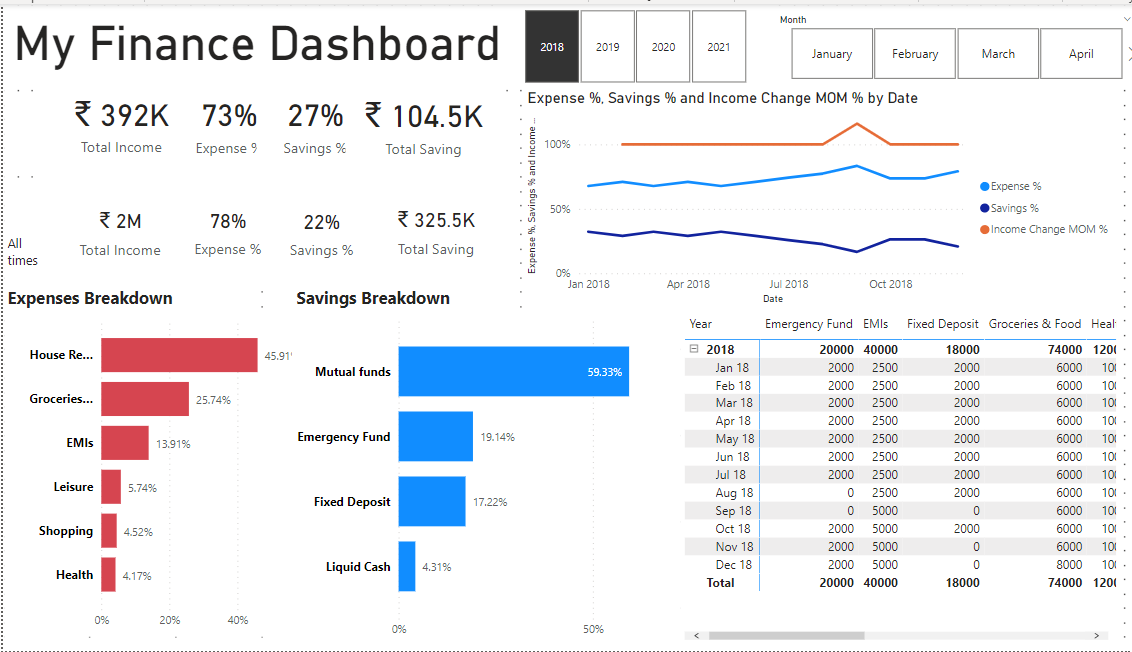

What the dashboard file says about the page in this screenshot:
{"tool":"powerbi","page":{"name":"Finance Dashboard","canvas":[1280,720],"ordinal":0},"visuals":[{"type":"card","fields":{"Values":["Key Measures.Total Income"]},"box":[47.7,67.2,168.7,129.6],"z":0},{"type":"card","fields":{"Values":["Key Measures.Expense %"]},"box":[187,67.2,130.8,130.8],"z":1000},{"type":"card","fields":{"Values":["Key Measures.Savings %"]},"box":[282.4,67.2,130.8,130.8],"z":2000},{"type":"card","fields":{"Values":["Key Measures.Total Saving"]},"box":[381.4,68.5,173.6,129.6],"z":3000},{"type":"slicer","fields":{"Values":["FinData.Year"]},"box":[555,0,295.8,94.1],"z":4000},{"type":"slicer","fields":{"Values":["FinData.Date.Variation.Date Hierarchy.Month"]},"box":[850.8,6.1,418.1,84.3],"z":5000},{"type":"card","fields":{"Values":["Key Measures.Total Income"]},"box":[46.2,188.3,168.7,129.6],"z":6000},{"type":"card","fields":{"Values":["Key Measures.Expense %"]},"box":[185.5,187,130.8,130.8],"z":7000},{"type":"card","fields":{"Values":["Key Measures.Savings %"]},"box":[289.4,188.3,130.8,130.8],"z":8000},{"type":"card","fields":{"Values":["Key Measures.Total Saving"]},"box":[394.6,187,173.6,129.6],"z":9000},{"type":"textbox","box":[0,251.8,65.4,51.5],"z":10000},{"type":"card","fields":{"Values":["Key Measures.Title"]},"box":[0,11.1,566.3,72.3],"z":11000},{"type":"clusteredBarChart","fields":{"Category":["FinData.Component"],"Y":["Key Measures.Total Expense"]},"box":[12.5,339.5,335.3,364.5],"z":12000},{"type":"textbox","box":[0,308.9,217,40.3],"z":13000},{"type":"textbox","box":[321.4,308.9,207.3,40.3],"z":14000},{"type":"clusteredBarChart","fields":{"Category":["FinData.Component"],"Y":["Key Measures.Total Saving"]},"box":[321.4,339.5,432.7,374.3],"z":15000},{"type":"lineChart","fields":{"Y":["Key Measures.Expense %","Key Measures.Savings %","Key Measures.Income Change MOM %"],"Category":["FinData.Date"]},"box":[578.8,94.6,665,244.9],"z":16000},{"type":"pivotTable","fields":{"Rows":["FinData.Year","FinData.Date"],"Values":["Sum(FinData.Value)"],"Columns":["FinData.Component"]},"box":[754,340,490,373],"z":17000}]}

Visuals, with their boxes in screenshot pixels (x1, y1, x2, y2), scaled from the page's 1280x720 canvas onto the 1132x652 screenshot:
card - Key Measures.Total Income: [left=42, top=61, right=191, bottom=178]
card - Key Measures.Expense %: [left=165, top=61, right=281, bottom=179]
card - Key Measures.Savings %: [left=250, top=61, right=365, bottom=179]
card - Key Measures.Total Saving: [left=337, top=62, right=491, bottom=179]
slicer - FinData.Year: [left=491, top=0, right=752, bottom=85]
slicer - FinData.Date.Variation.Date Hierarchy.Month: [left=752, top=6, right=1122, bottom=82]
card - Key Measures.Total Income: [left=41, top=171, right=190, bottom=288]
card - Key Measures.Expense %: [left=164, top=169, right=280, bottom=288]
card - Key Measures.Savings %: [left=256, top=171, right=372, bottom=289]
card - Key Measures.Total Saving: [left=349, top=169, right=503, bottom=287]
textbox: [left=0, top=228, right=58, bottom=275]
card - Key Measures.Title: [left=0, top=10, right=501, bottom=76]
clusteredBarChart - FinData.Component x Key Measures.Total Expense: [left=11, top=307, right=308, bottom=638]
textbox: [left=0, top=280, right=192, bottom=316]
textbox: [left=284, top=280, right=468, bottom=316]
clusteredBarChart - FinData.Component x Key Measures.Total Saving: [left=284, top=307, right=667, bottom=646]
lineChart - Key Measures.Expense % x Key Measures.Savings %: [left=512, top=86, right=1100, bottom=307]
pivotTable - FinData.Year x FinData.Date: [left=667, top=308, right=1100, bottom=646]
